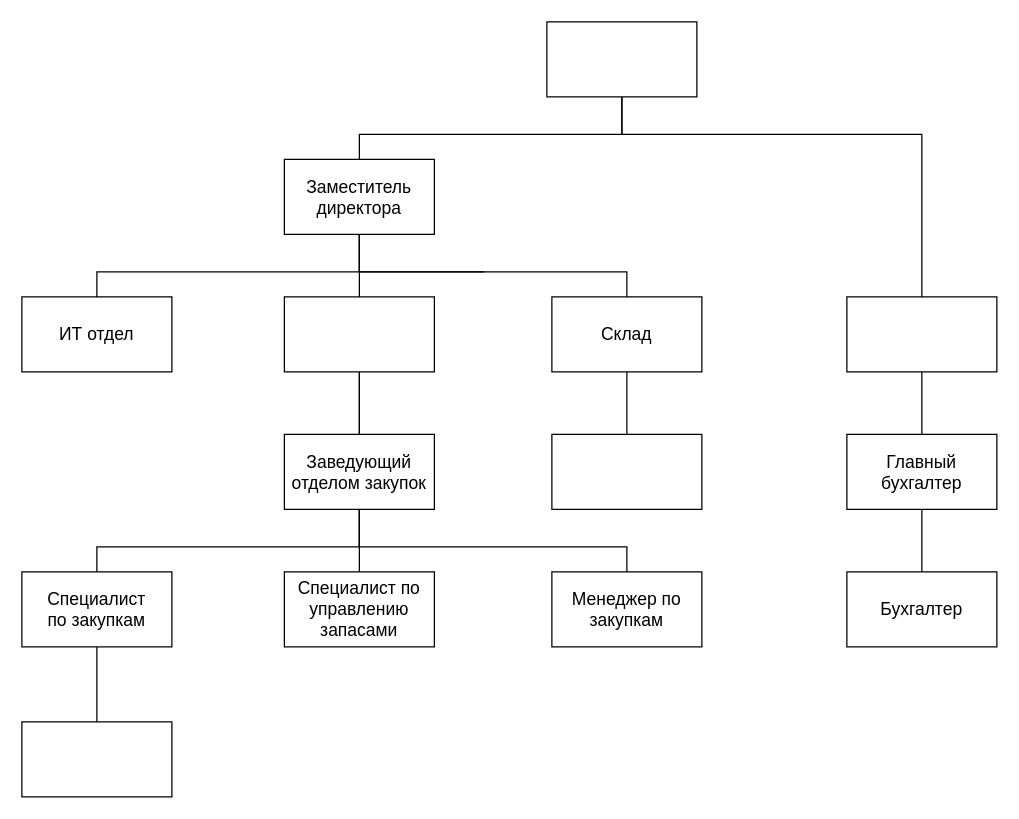
Image size: 1019x819. Some labels were removed from this diagram. Each missing label, with the centre of its shape:
"Бухгалтерия" goes at point 921,334.
"Директор" goes at point 621,59.
"Заведующий складом" goes at point 626,471.
"Отдел закупок" goes at point 358,334.
"Специалист по ИТ-закупкам" goes at point 96,759.
